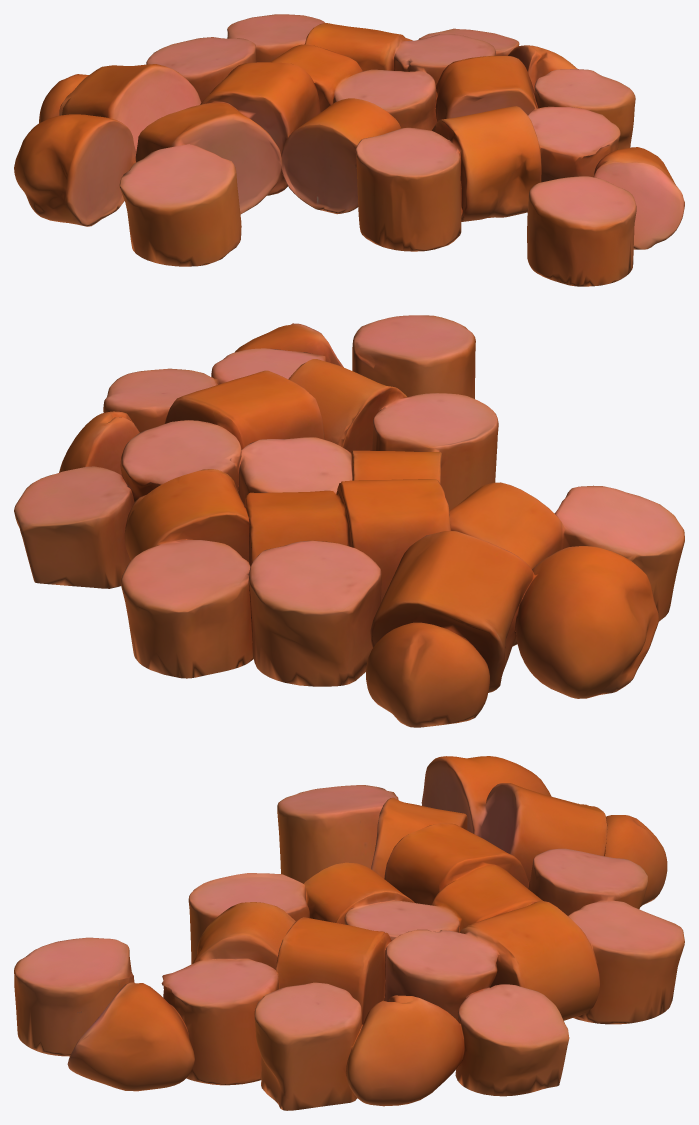
Rendered from ChorizoPicadoModel.glb.
The picture shows the model from 3 angles, top to bottom: view 1: azimuth 30°, elevation 25°; view 2: azimuth 150°, elevation 25°; view 3: azimuth 270°, elevation 25°; orthographic projection. The views are drawn at different scales.
Visible parts, largest first — view 1: tripo_node_5953990e-a6a7-4911-a671-143528d7b6b5; view 2: tripo_node_5953990e-a6a7-4911-a671-143528d7b6b5; view 3: tripo_node_5953990e-a6a7-4911-a671-143528d7b6b5.
Part boxes in pixels (x1,y1,x2,y2): tripo_node_5953990e-a6a7-4911-a671-143528d7b6b5: (14, 14, 684, 286); tripo_node_5953990e-a6a7-4911-a671-143528d7b6b5: (14, 315, 684, 727); tripo_node_5953990e-a6a7-4911-a671-143528d7b6b5: (14, 756, 684, 1110).
Size of the model in its own units: 0.9679 by 0.1942 by 0.9794.
Materials: 1 (1 with a texture image).
